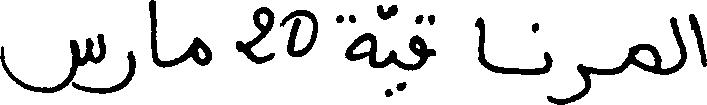X: (0, 29, 104, 98), (325, 10, 375, 72), (236, 2, 273, 68), (555, 59, 590, 104), (106, 46, 136, 97), (295, 5, 317, 61), (410, 10, 427, 75), (671, 12, 687, 78), (632, 39, 659, 78), (690, 9, 706, 71), (389, 0, 398, 101), (194, 32, 211, 70), (148, 0, 157, 70), (543, 47, 553, 104), (477, 12, 486, 72)
